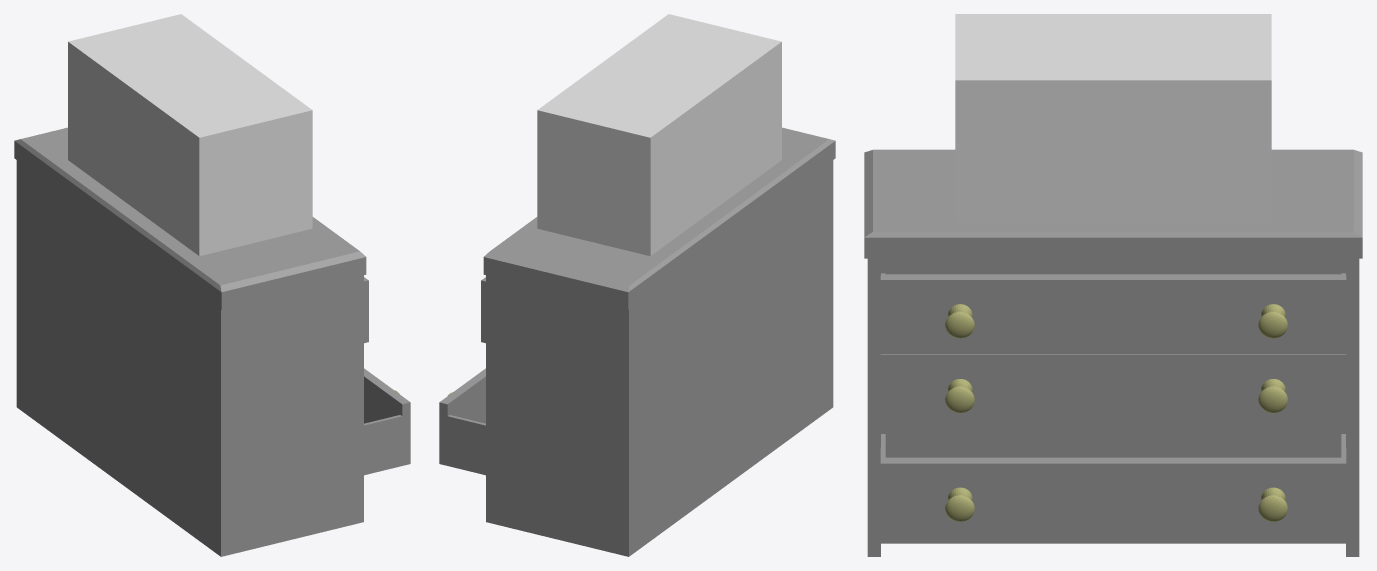
The model's file is Chest o draws.fbx.
The picture shows the model from 3 angles, left to right: view 1: azimuth 30°, elevation 25°; view 2: azimuth 150°, elevation 25°; view 3: azimuth 270°, elevation 25°; orthographic projection. The views are drawn at different scales.
Parts seen in each view (by area): view 1: Cube.001, Cube; view 2: Cube.001, Cube; view 3: Cube.001, Cube.
Boxes of the visible parts, bbox=[...] form: Cube.001: bbox=[14, 127, 410, 556]; Cube: bbox=[68, 14, 312, 256]; Cube.001: bbox=[439, 127, 835, 556]; Cube: bbox=[537, 14, 781, 256]; Cube.001: bbox=[864, 149, 1362, 556]; Cube: bbox=[955, 14, 1271, 222].
Bounding box in the file's own units: 306 × 520 × 503.
